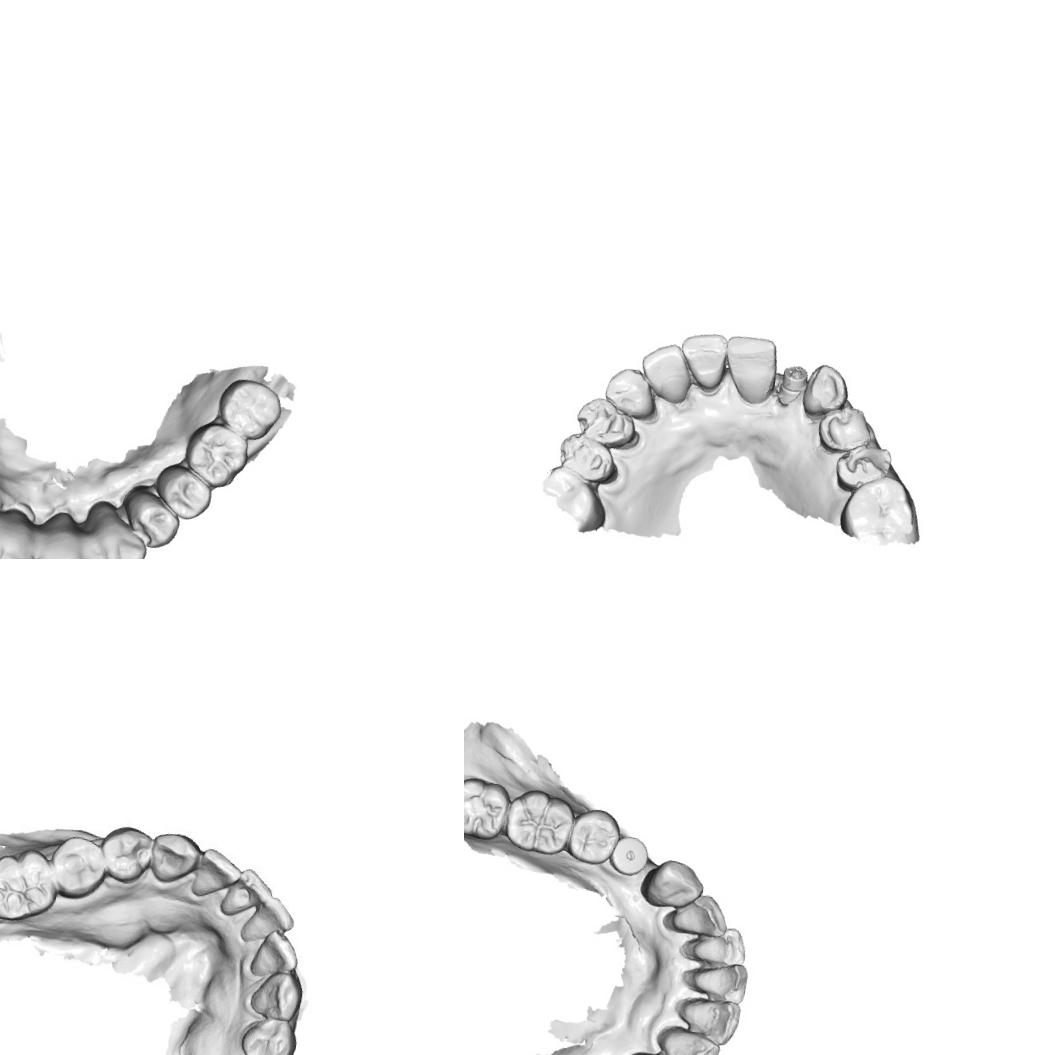canine: (637, 853, 708, 915), (600, 358, 663, 424), (245, 967, 306, 1023), (798, 360, 853, 422), (143, 828, 201, 886), (83, 518, 153, 559), (646, 1019, 724, 1055)
implant: (604, 829, 650, 878), (773, 360, 811, 408)
incisor: (716, 330, 782, 409), (668, 986, 745, 1048), (634, 336, 698, 406), (678, 915, 752, 972), (664, 886, 732, 946), (672, 326, 730, 394), (679, 954, 752, 1004), (192, 846, 244, 900), (244, 890, 295, 943), (252, 930, 301, 980), (64, 518, 119, 559), (0, 507, 43, 559), (223, 869, 268, 913), (25, 521, 77, 559)
molar: (835, 467, 926, 550), (500, 778, 578, 858), (532, 464, 614, 540), (210, 371, 289, 445), (178, 416, 254, 492), (0, 844, 60, 920), (464, 768, 516, 844)
premolar: (118, 483, 186, 554), (147, 458, 218, 525), (570, 392, 640, 452), (564, 800, 624, 870), (830, 436, 894, 499), (554, 429, 624, 486), (97, 824, 157, 887), (812, 399, 876, 458), (51, 831, 106, 898), (236, 1012, 298, 1055)
